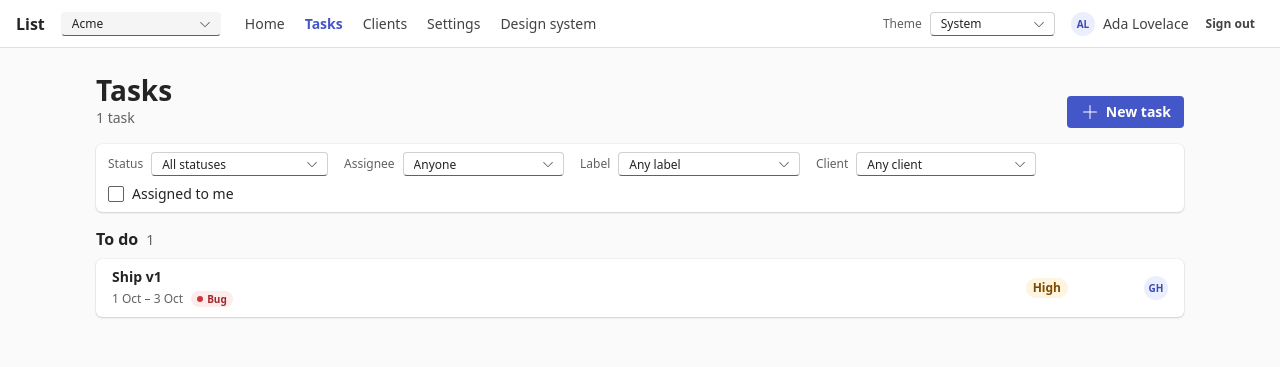
tasks page › lists tasks grouped by status and filters through the URL
This screenshot has width=1280, height=367.
Expected: the link "Ship v1 1 Oct – 3 Oct Bug High GH" is shown, [96,259,1184,317]
Select "Done" in the dropdown labelled "Status". click: [240, 164]
box: [151,152,328,176]
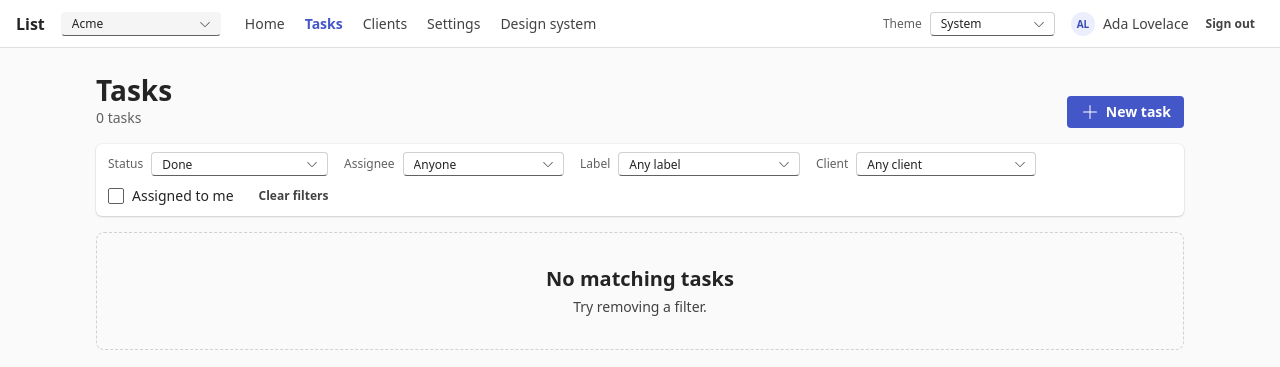
Result: the heading "No matching tasks" is shown at [546,265,734,293]
Click the button "Clear filters". click: [293, 196]
box: [250,184,337,208]
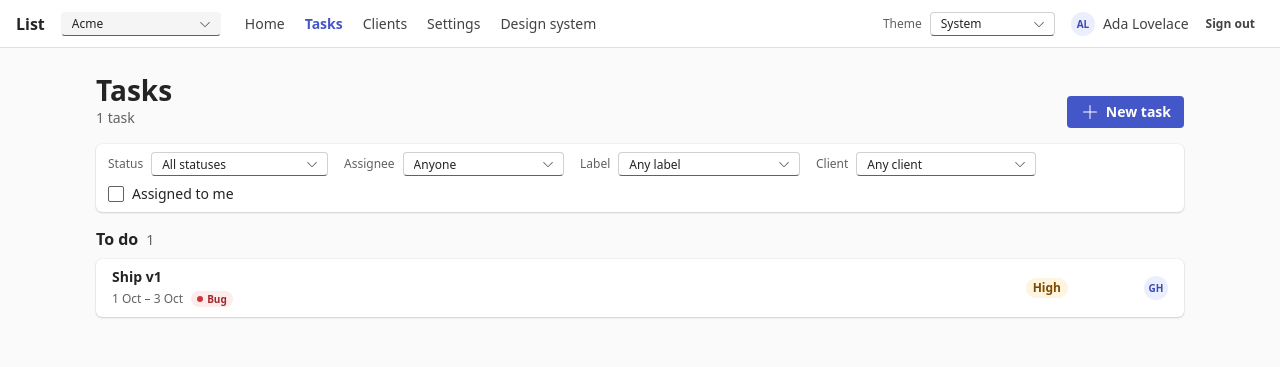
Result: the link "Ship v1 1 Oct – 3 Oct Bug High GH" is shown at [96,259,1184,317]
